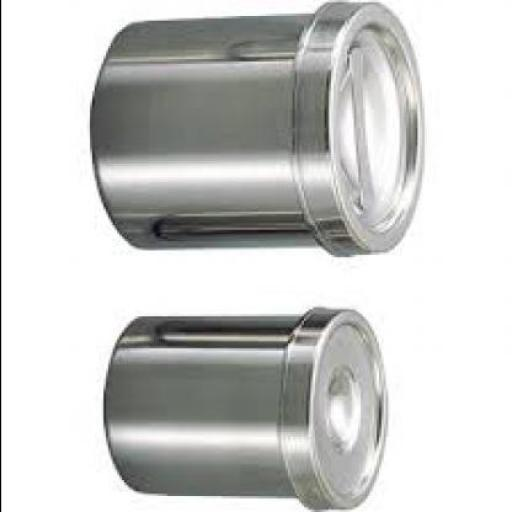metal: (91, 0, 426, 255), (104, 308, 387, 510)
